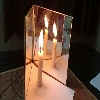fire: (38, 29, 44, 52)
